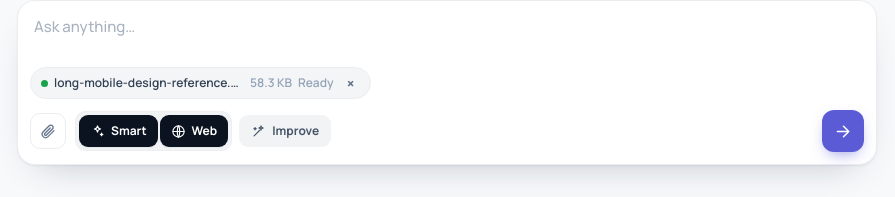
Test: PromptComposer › keeps the compact Ask composer controls in one shell
The width and height of the screenshot is (895, 197).
Click the button named "Remove long-mobile-design-reference.pdf" at [350, 83], box [340, 72, 362, 94]
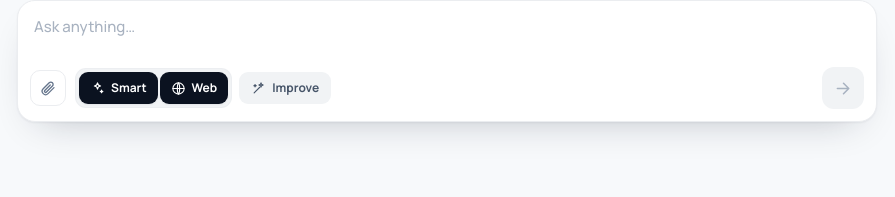
Check: the text "long-mobile-design-reference.pdf" is gone
